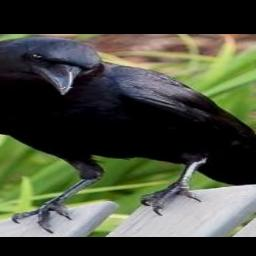Crow: (0, 37, 256, 234)
